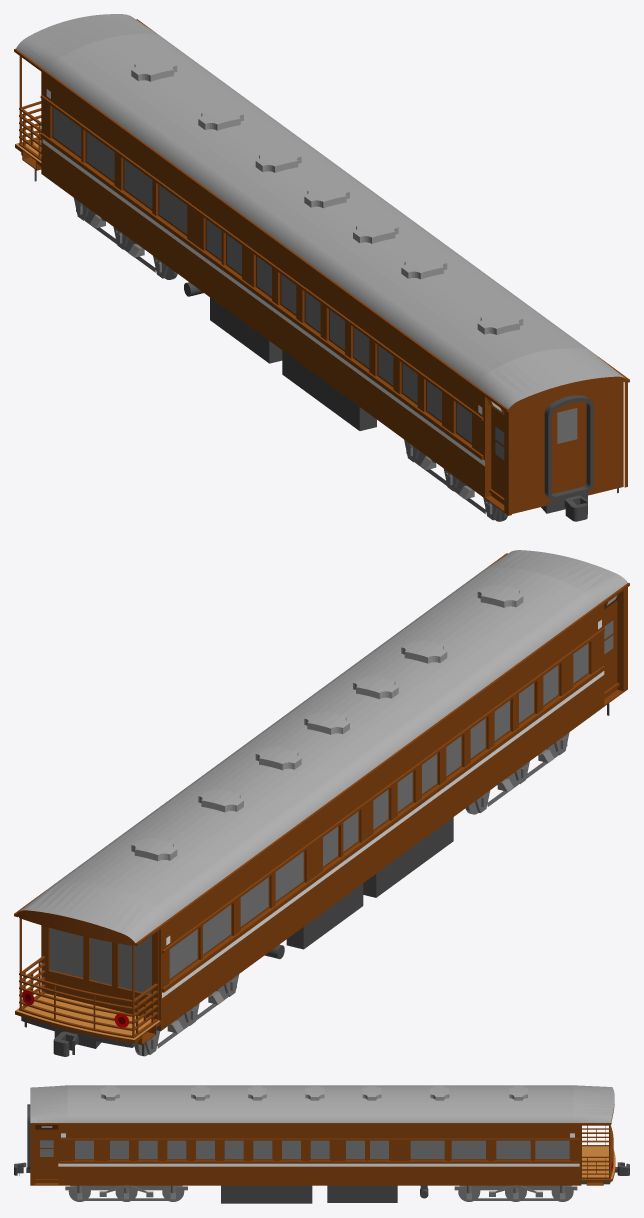
The model's file is C62-simple-car4.glb.
3 renders of one model, top to bottom at view 1: azimuth 30°, elevation 25°; view 2: azimuth 150°, elevation 25°; view 3: azimuth 270°, elevation 25°, orthographic. The views are drawn at different scales.
Parts seen in each view (by area): view 1: コンポーネント, Component#18, Component#31.001, Component#35, Component#35.001, Component#28.006, Component#28.004, Component#28.007, Component#28.005, Component#30.001, Component#30, Component#30.006 (+4 smaller); view 2: コンポーネント, Component#31.001, Component#35, Component#35.001, Component#28.005, Component#28.007, Component#28.006, Component#28.004, Component#30.006, Component#30.003, Component#30.001, Component#30 (+3 smaller); view 3: コンポーネント, Component#35.001, Component#35, Component#31, Component#28.002, Component#28, Component#28.001, Component#28.003, Component#22.001, Component#22.007, Component#22.010, Component#22 (+15 smaller).
Boxes of the visible parts, x1=… form: コンポーネント: x1=14, y1=14, x2=629, y2=515; Component#18: x1=544, y1=395, x2=593, y2=500; Component#31.001: x1=485, y1=396, x2=504, y2=521; Component#35: x1=74, y1=198, x2=177, y2=279; Component#35.001: x1=404, y1=439, x2=507, y2=521; Component#28.006: x1=156, y1=183, x2=187, y2=238; Component#28.004: x1=83, y1=129, x2=114, y2=185; Component#28.007: x1=121, y1=157, x2=152, y2=212; Component#28.005: x1=50, y1=105, x2=81, y2=160; Component#30.001: x1=131, y1=58, x2=177, y2=81; Component#30: x1=255, y1=149, x2=301, y2=172; Component#30.006: x1=477, y1=311, x2=523, y2=334; コンポーネント: x1=14, y1=550, x2=629, y2=1055; Component#31.001: x1=604, y1=590, x2=623, y2=715; Component#35: x1=134, y1=974, x2=239, y2=1056; Component#35.001: x1=465, y1=732, x2=569, y2=814; Component#28.005: x1=169, y1=927, x2=200, y2=982; Component#28.007: x1=240, y1=875, x2=271, y2=930; Component#28.006: x1=275, y1=849, x2=306, y2=904; Component#28.004: x1=203, y1=902, x2=233, y2=958; Component#30.006: x1=477, y1=584, x2=523, y2=607; Component#30.003: x1=401, y1=640, x2=447, y2=663; Component#30.001: x1=131, y1=837, x2=177, y2=861; Component#30: x1=255, y1=746, x2=301, y2=770; コンポーネント: x1=30, y1=1085, x2=615, y2=1203; Component#35.001: x1=65, y1=1185, x2=187, y2=1201; Component#35: x1=454, y1=1185, x2=577, y2=1201; Component#31: x1=35, y1=1125, x2=58, y2=1185; Component#28.002: x1=450, y1=1140, x2=487, y2=1160; Component#28: x1=495, y1=1140, x2=531, y2=1160; Component#28.001: x1=409, y1=1140, x2=445, y2=1160; Component#28.003: x1=534, y1=1140, x2=570, y2=1160; Component#22.001: x1=137, y1=1140, x2=158, y2=1160; Component#22.007: x1=223, y1=1140, x2=244, y2=1160; Component#22.010: x1=309, y1=1140, x2=330, y2=1160; Component#22: x1=345, y1=1140, x2=366, y2=1160.
Bounding box in the file's own units: 2.89 × 3.9 × 21.21.
